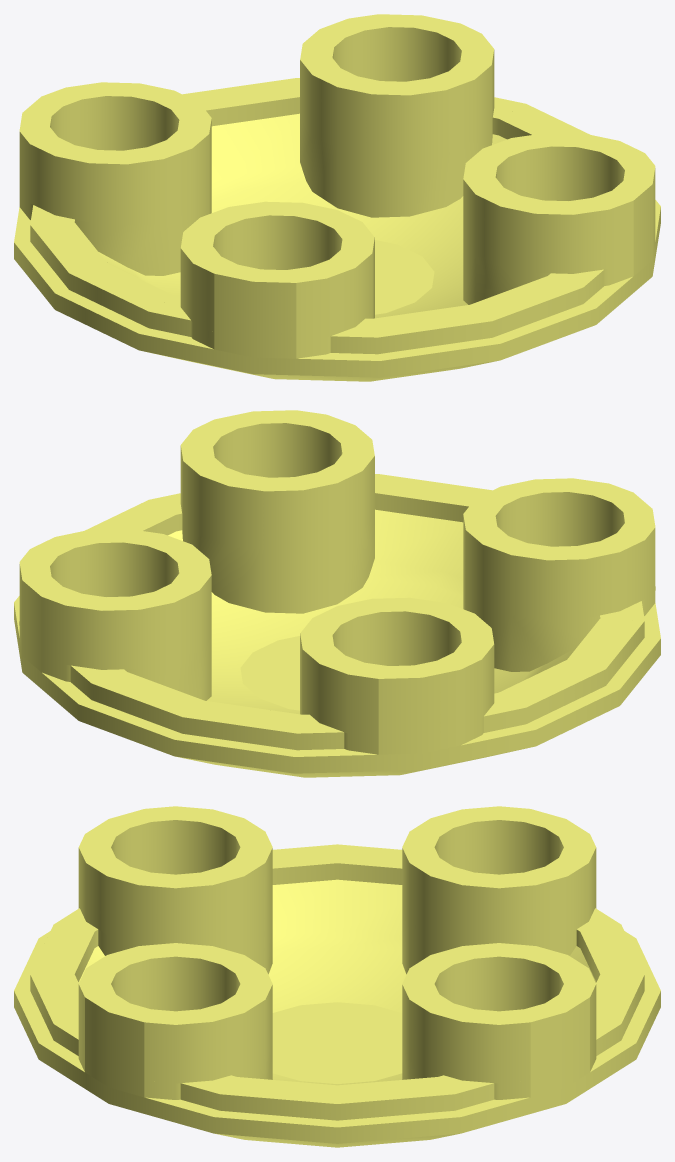
The picture shows the model from 3 angles, top to bottom: view 1: azimuth 30°, elevation 25°; view 2: azimuth 150°, elevation 25°; view 3: azimuth 270°, elevation 25°; orthographic projection.
Parts seen in each view (by area): view 1: 2654a.dat; view 2: 2654a.dat; view 3: 2654a.dat.
Boxes of the visible parts, left/top/right/bottom form: 2654a.dat: left=14, top=14, right=660, bottom=381; 2654a.dat: left=14, top=410, right=660, bottom=777; 2654a.dat: left=14, top=806, right=660, bottom=1147.
Bounding box in the file's own units: 0.016 × 0.0048 × 0.016.
